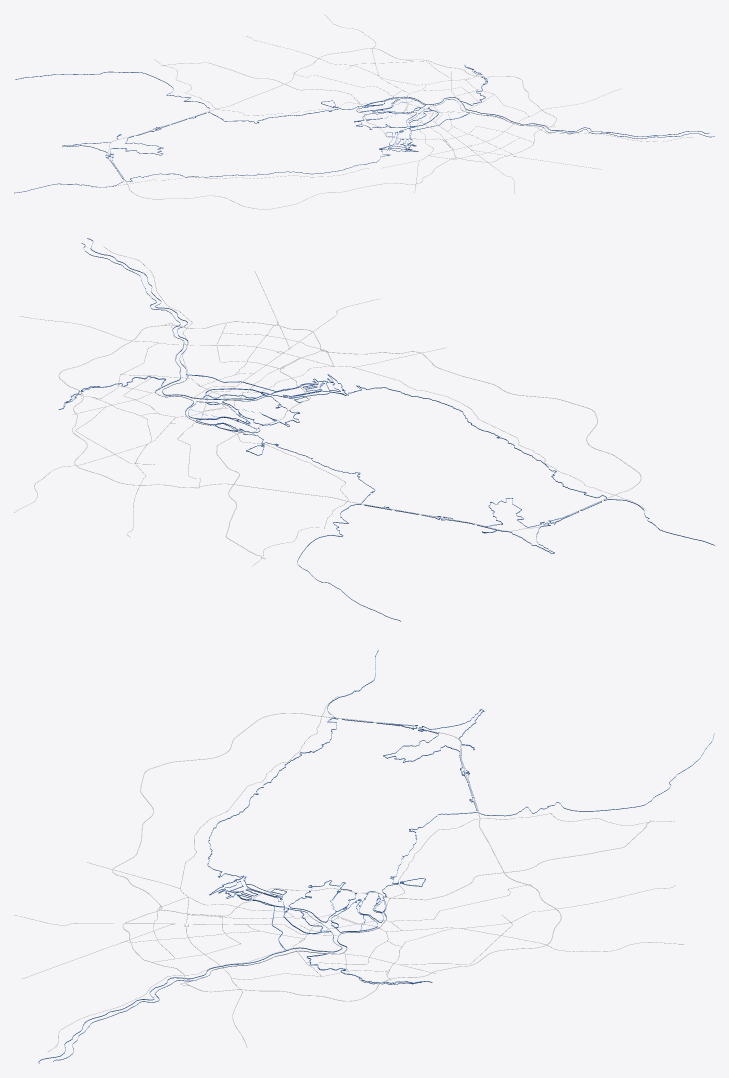
The model's file is mapspb_342631_6664090_36N.FBX.
3 views of the same model, one above another, from view 1: azimuth 30°, elevation 25°; view 2: azimuth 150°, elevation 25°; view 3: azimuth 270°, elevation 25° (orthographic). The views are drawn at different scales.
Parts seen in each view (by area): view 1: newrivers, primary_model, KAD_ZSD_model; view 2: newrivers, primary_model, KAD_ZSD_model; view 3: newrivers, primary_model, KAD_ZSD_model.
Boxes of the visible parts, x1=… form: newrivers: x1=14, y1=65, x2=714, y2=193; primary_model: x1=92, y1=14, x2=693, y2=193; KAD_ZSD_model: x1=108, y1=48, x2=556, y2=209; newrivers: x1=58, y1=238, x2=714, y2=621; primary_model: x1=14, y1=246, x2=646, y2=566; KAD_ZSD_model: x1=58, y1=321, x2=641, y2=559; newrivers: x1=38, y1=650, x2=714, y2=1063; primary_model: x1=14, y1=696, x2=683, y2=1051; KAD_ZSD_model: x1=112, y1=713, x2=651, y2=1001.
Bounding box in the file's own units: 72032 × 170 × 51706.
